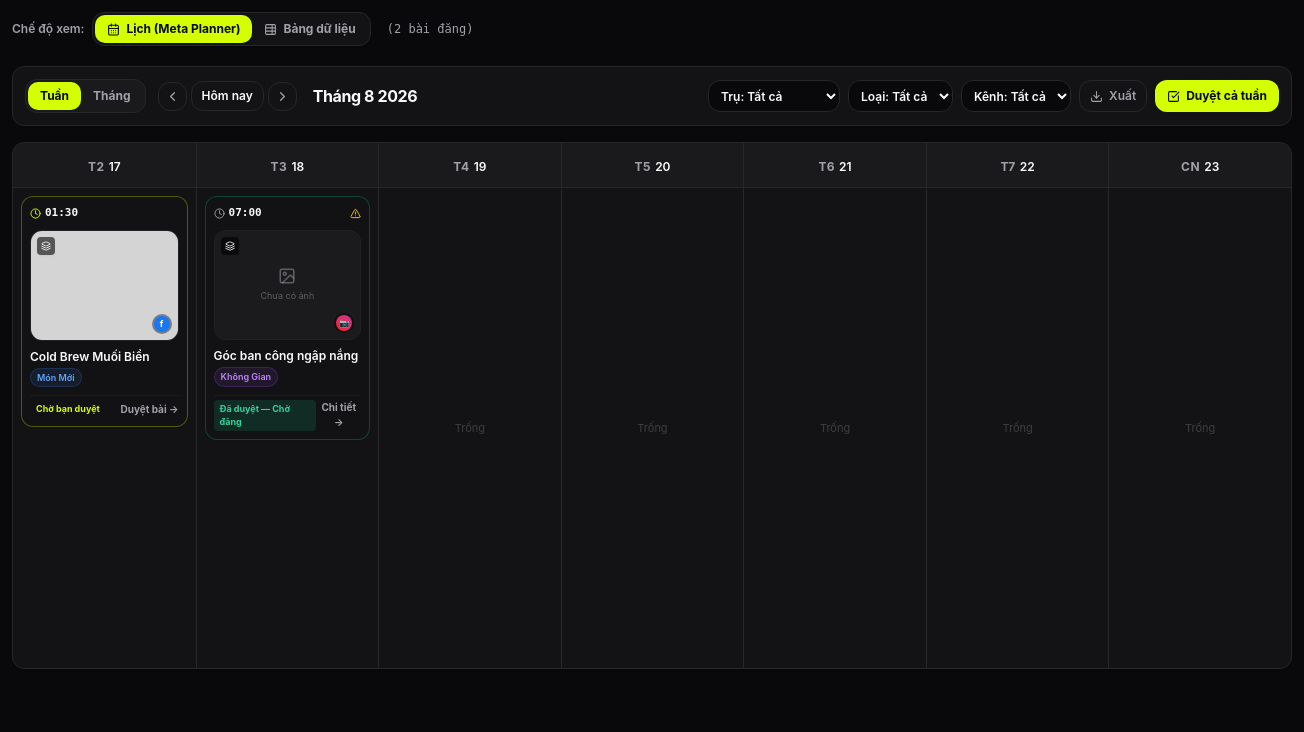
it: Planner Redesign Tests › renders ContentPlanTable with Meta Planner sub-tab by default and switches to table
Expected: the button "Lịch (Meta Planner)" is shown, [95,15,252,43]
Expected: the text "Cold Brew Muối Biển" is shown, [30,349,150,364]
Note: Switch to table
Click the button "Bảng dữ liệu" at [310, 29], box [252,15,368,43]
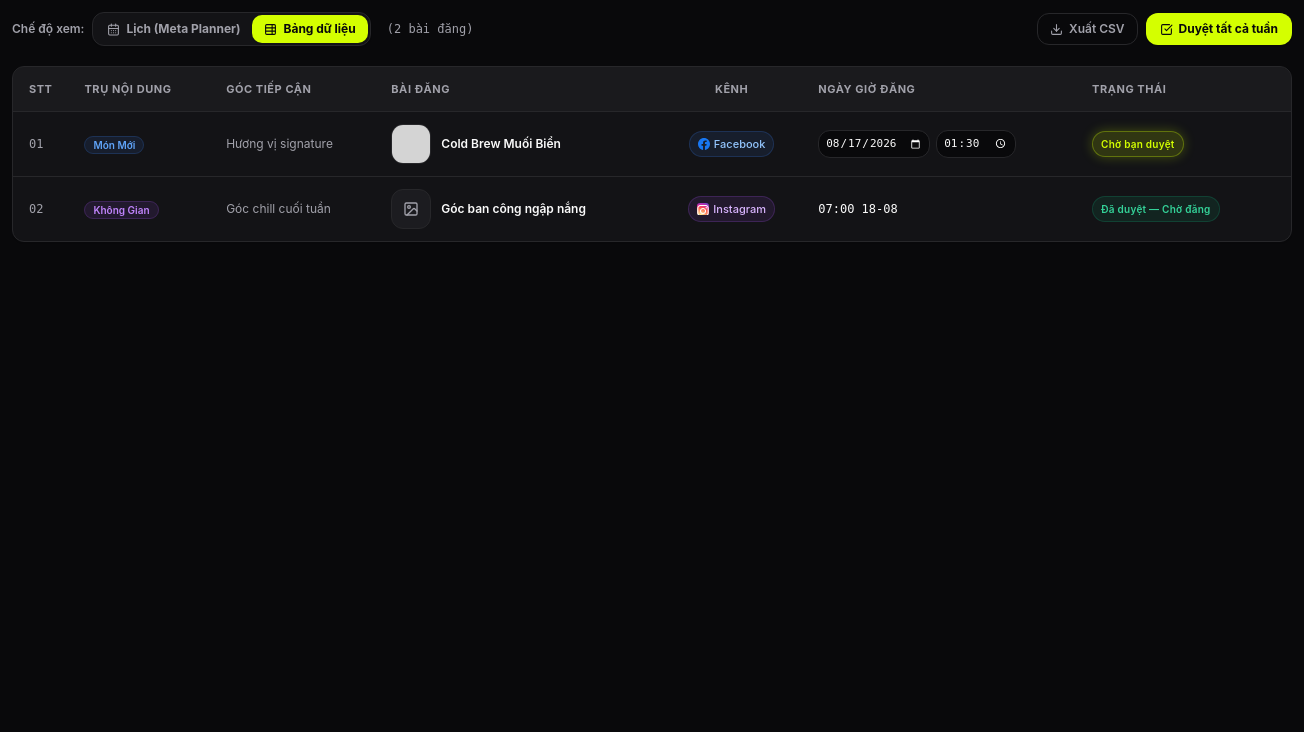
Expected: the column heading "Góc tiếp cận" is shown, [210,67,375,112]
Expected: the text "Hương vị signature" is shown, [210,112,375,176]
